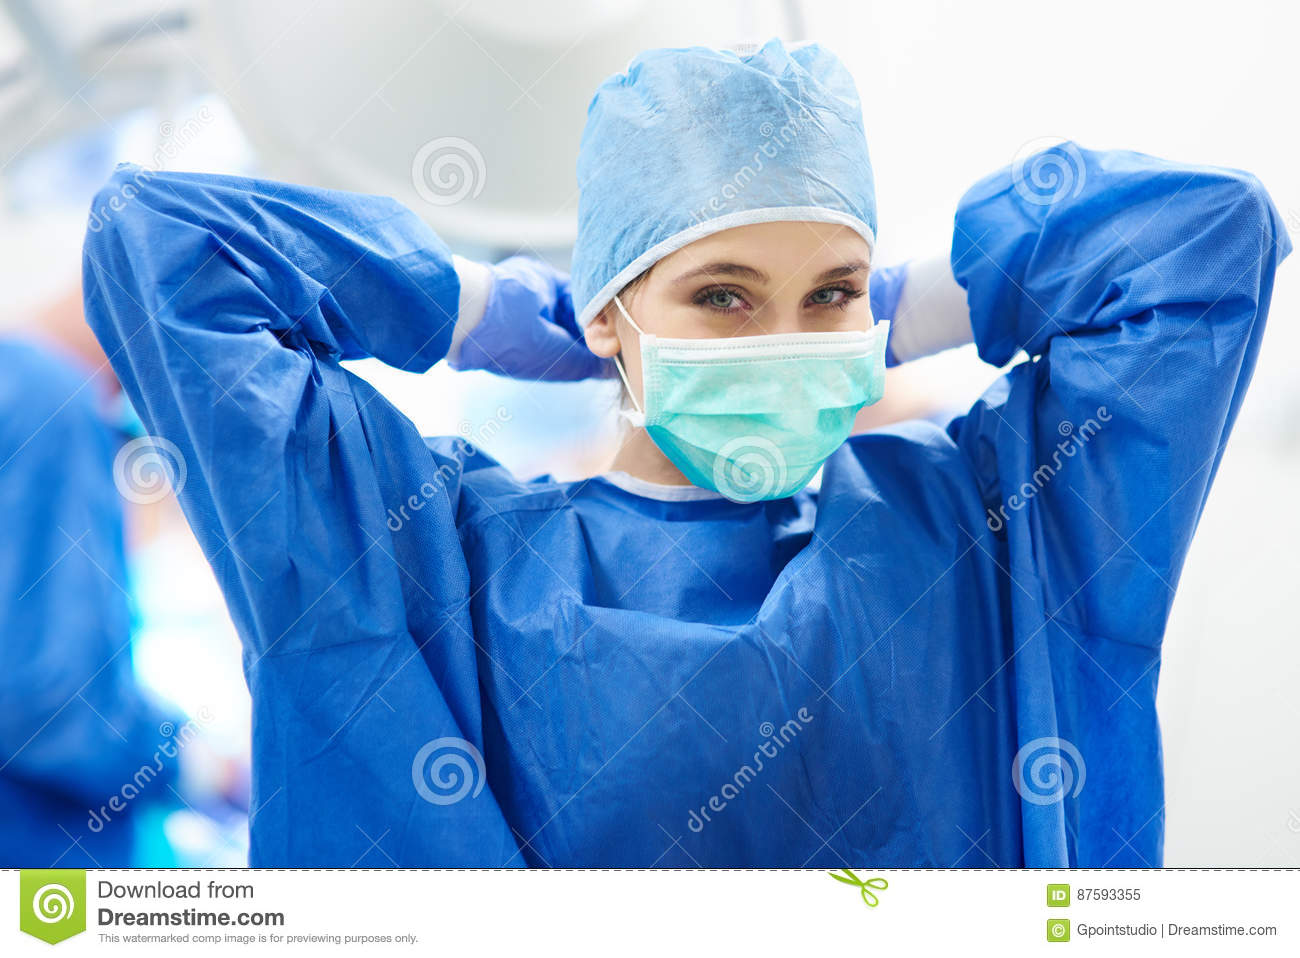mask: (635, 329, 888, 519)
